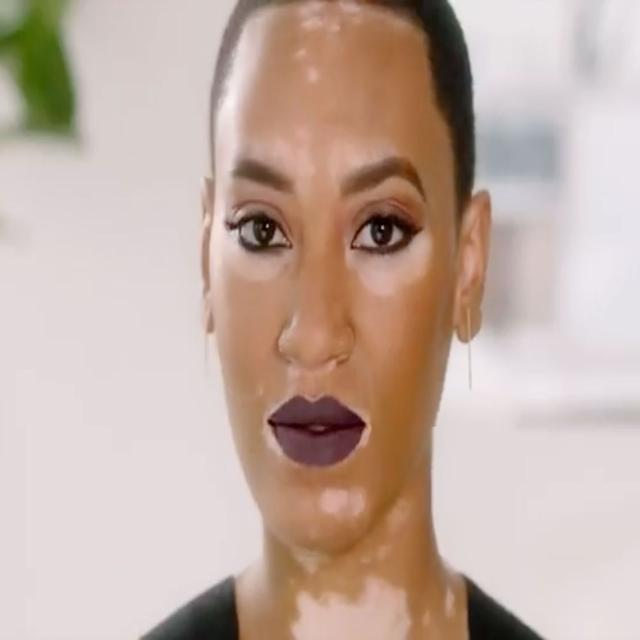vitiligo: (217, 167, 442, 308), (279, 561, 445, 640), (295, 0, 369, 83)
